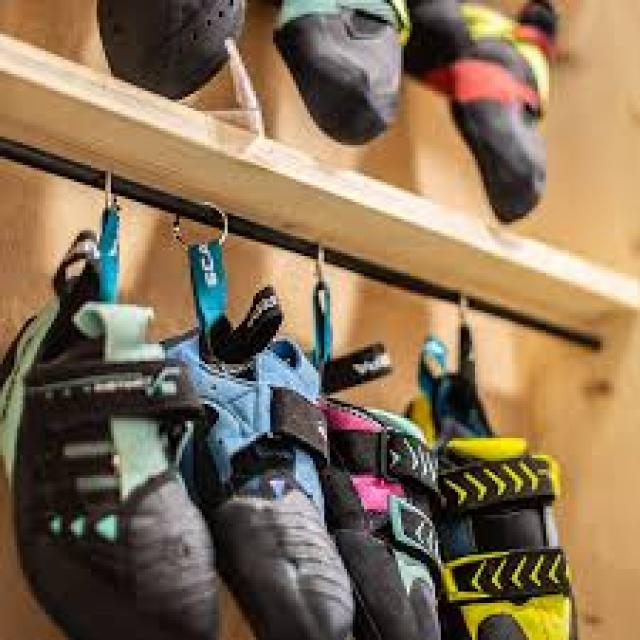climbing-shoes: (0, 259, 225, 640), (167, 311, 353, 640), (424, 350, 580, 640), (321, 369, 448, 640), (420, 0, 552, 228)
